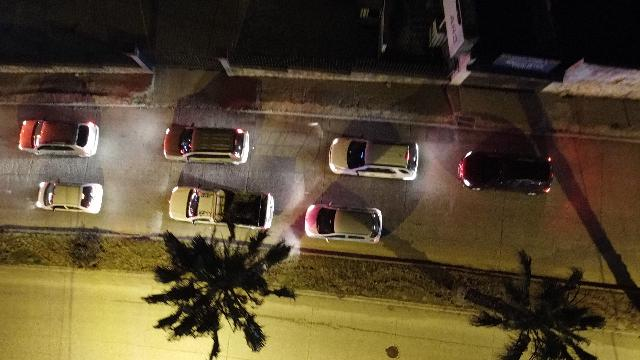Vehiculo: (168, 186, 274, 232), (458, 150, 554, 196), (328, 136, 418, 180), (163, 124, 249, 165), (304, 203, 382, 243), (19, 119, 99, 157), (36, 181, 102, 214)
